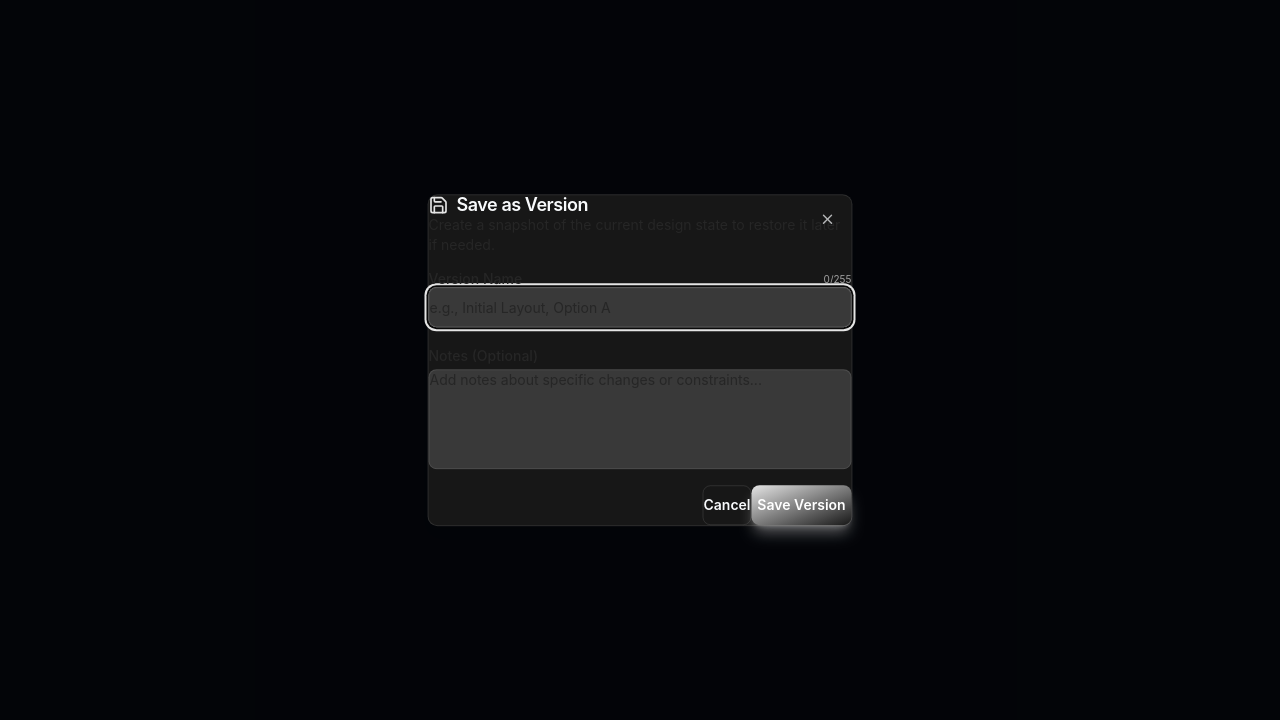
SaveVersionModal › Rendering and Validation › should show character count
In the field labelled "Version Name": [640, 307] box left=428, top=287, right=852, bottom=327, type "Test"
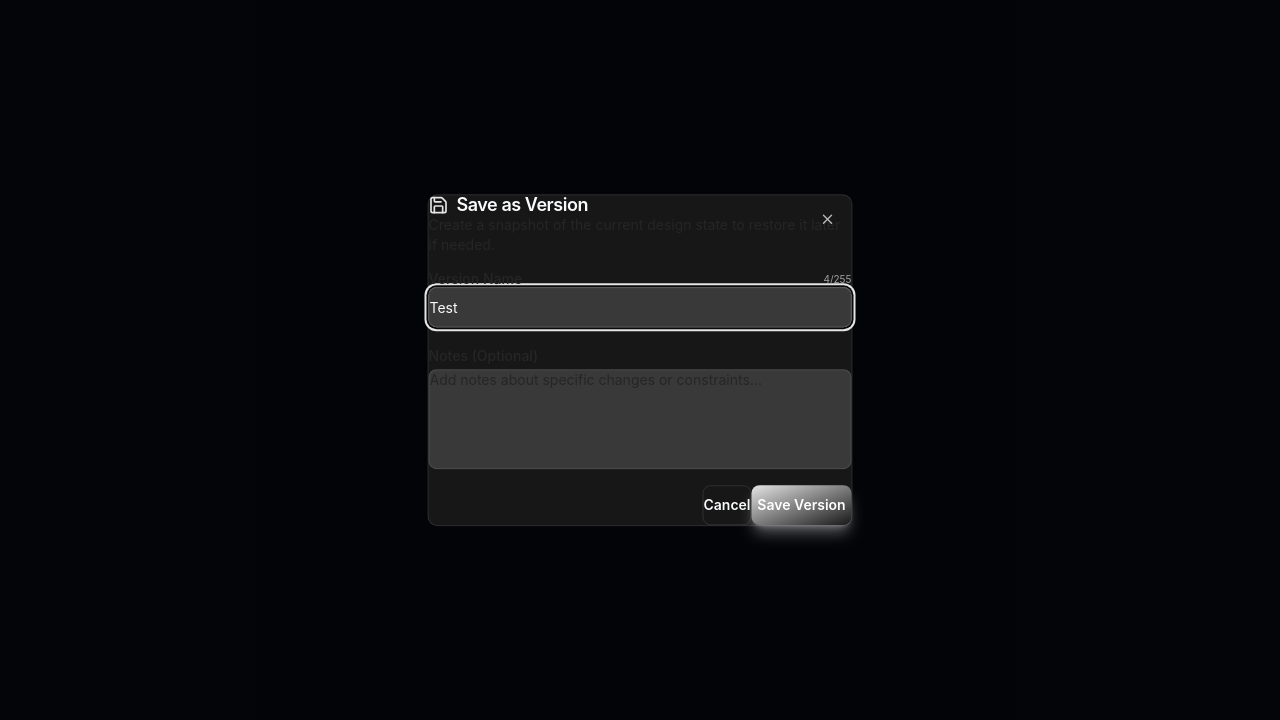
Check: the text "4/255" is shown, box left=824, top=271, right=852, bottom=287
